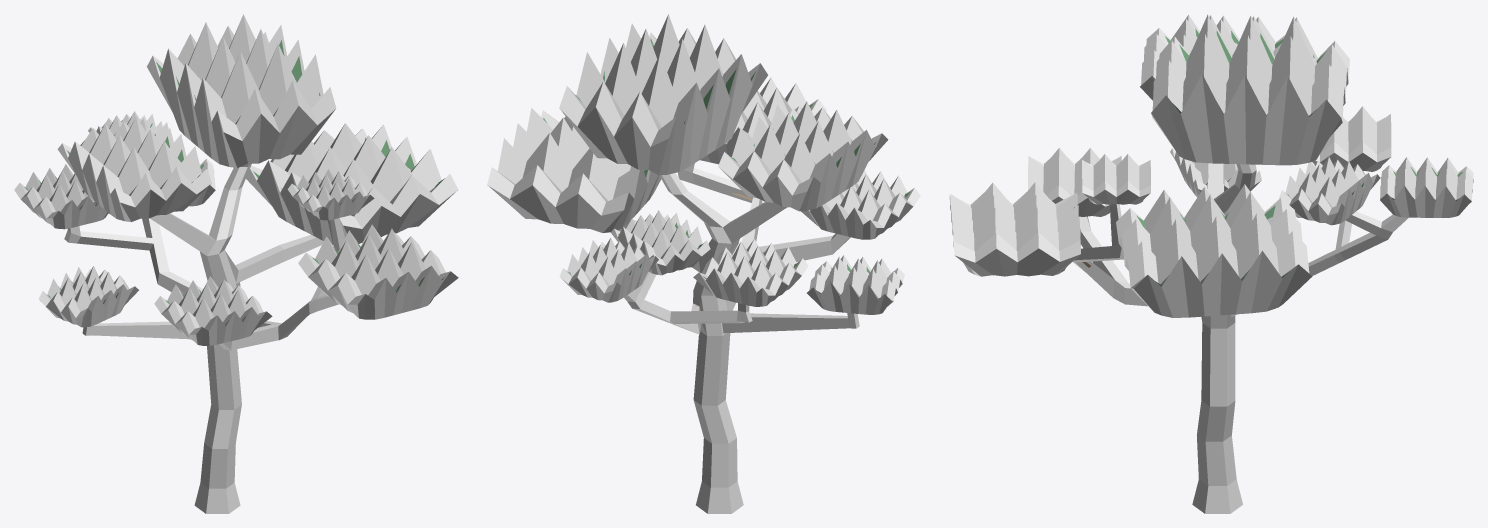
The model's file is resource__tree__jungle-tree-2.fbx.
3 views of the same model, side by side, from view 1: azimuth 30°, elevation 25°; view 2: azimuth 150°, elevation 25°; view 3: azimuth 270°, elevation 25° (orthographic). The views are drawn at different scales.
Parts seen in each view (by area): view 1: Jungle_Tree_2; view 2: Jungle_Tree_2; view 3: Jungle_Tree_2.
Part boxes in pixels (left/top/right/bottom): Jungle_Tree_2: left=14, top=14, right=458, bottom=513; Jungle_Tree_2: left=487, top=14, right=920, bottom=513; Jungle_Tree_2: left=949, top=14, right=1473, bottom=513.
Size of the model in its own units: 236 by 273 by 259.
